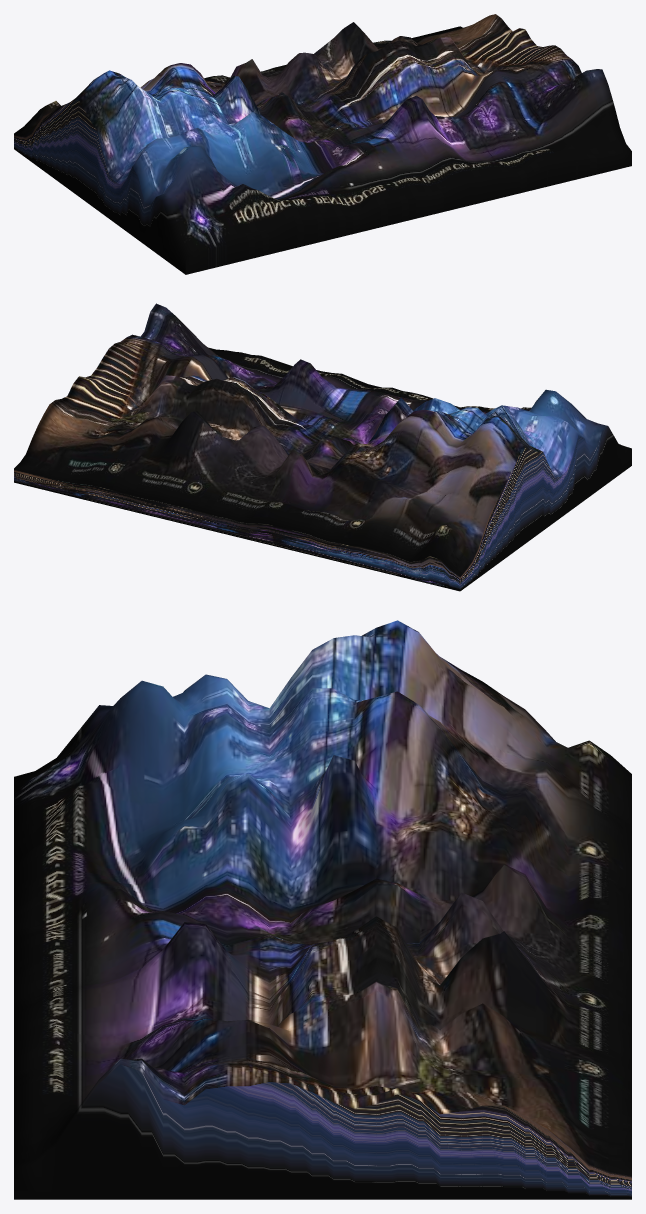
File: HOUSING_08_Penthouse.glb
3 views of the same model, one above another, from view 1: azimuth 30°, elevation 25°; view 2: azimuth 150°, elevation 25°; view 3: azimuth 270°, elevation 25° (orthographic). The views are drawn at different scales.
Visible parts, largest first — view 1: HOUSING_08_Penthouse; view 2: HOUSING_08_Penthouse; view 3: HOUSING_08_Penthouse.
Part boxes in pixels (x1=…): HOUSING_08_Penthouse: x1=14, y1=14, x2=631, y2=274; HOUSING_08_Penthouse: x1=14, y1=303, x2=631, y2=591; HOUSING_08_Penthouse: x1=14, y1=620, x2=631, y2=1199.
Bounding box in the file's own units: 2 × 0.51 × 1.33.
1 material, 1 textured.
